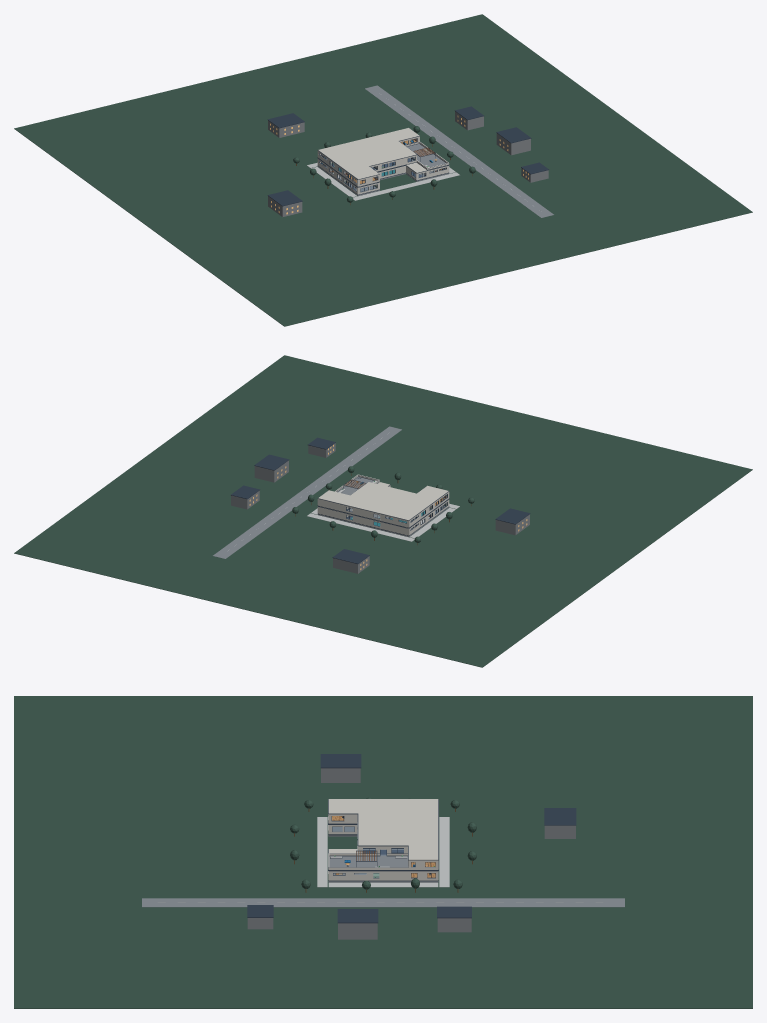
Rendered from timbas-office-building.glb.
3 views of the same model, one above another, from view 1: azimuth 30°, elevation 25°; view 2: azimuth 150°, elevation 25°; view 3: azimuth 270°, elevation 25° (orthographic). The views are drawn at different scales.
Parts seen in each view (by area): view 1: Exterior · muted park planting, Floor · industrial concrete, Structure · graphite, Ceiling · warm mineral plaster, Exterior · distant residential plaster, Wall · warm architectural plaster, Floor · continuous terrazzo; view 2: Exterior · muted park planting, Floor · industrial concrete, Ceiling · warm mineral plaster, Structure · graphite, Wall · warm architectural plaster, Exterior · distant residential plaster, Floor · continuous terrazzo; view 3: Exterior · muted park planting, Floor · industrial concrete, Ceiling · warm mineral plaster, Structure · graphite, Exterior · distant residential plaster, Floor · continuous terrazzo, Wall · warm architectural plaster.
Boxes of the visible parts, x1,y1,x2,y2 form: Exterior · muted park planting: [14, 14, 752, 326]; Floor · industrial concrete: [317, 85, 553, 217]; Structure · graphite: [267, 106, 548, 206]; Ceiling · warm mineral plaster: [318, 128, 446, 187]; Exterior · distant residential plaster: [268, 111, 548, 216]; Wall · warm architectural plaster: [317, 136, 449, 194]; Floor · continuous terrazzo: [307, 142, 459, 200]; Exterior · muted park planting: [14, 355, 752, 667]; Floor · industrial concrete: [213, 426, 449, 558]; Ceiling · warm mineral plaster: [318, 482, 448, 528]; Structure · graphite: [231, 437, 530, 563]; Wall · warm architectural plaster: [317, 474, 449, 535]; Exterior · distant residential plaster: [231, 443, 529, 573]; Floor · continuous terrazzo: [307, 480, 459, 541]; Exterior · muted park planting: [14, 696, 752, 1008]; Floor · industrial concrete: [142, 835, 624, 907]; Ceiling · warm mineral plaster: [328, 799, 438, 859]; Structure · graphite: [247, 754, 576, 923]; Exterior · distant residential plaster: [247, 768, 575, 939]; Floor · continuous terrazzo: [317, 816, 449, 887]; Wall · warm architectural plaster: [328, 814, 438, 880].
Bounding box in the file's own units: 260 × 9.09 × 260.
